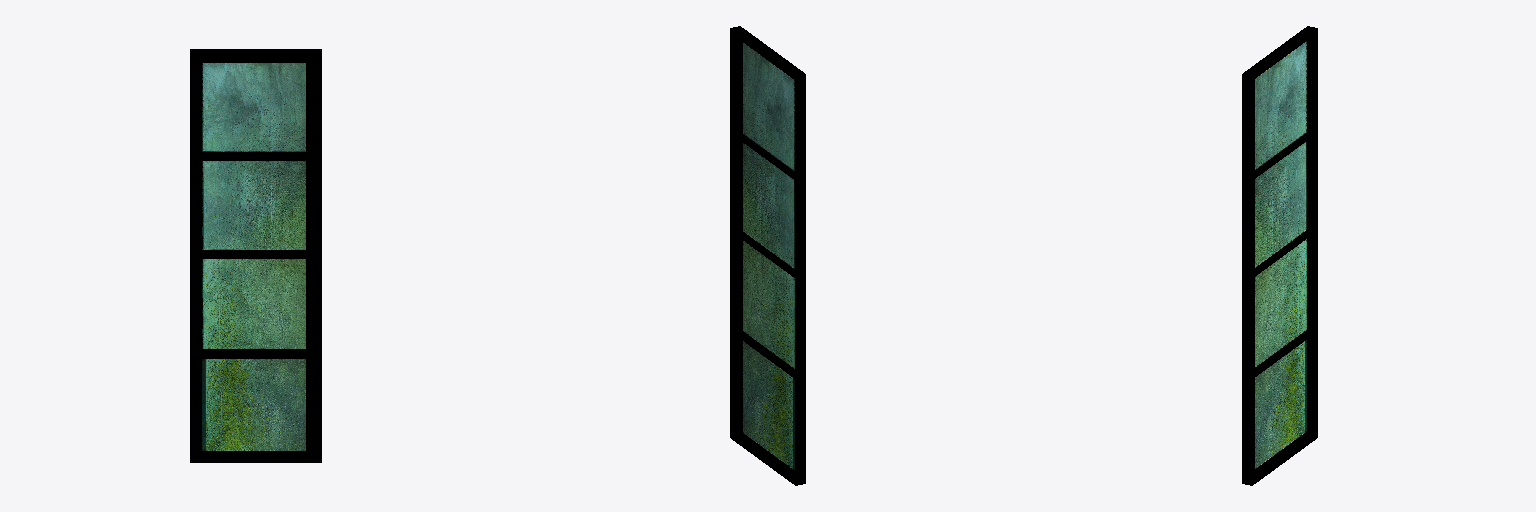
The picture shows the model from 3 angles: view 1: azimuth 30°, elevation 25°; view 2: azimuth 150°, elevation 25°; view 3: azimuth 270°, elevation 25°; orthographic projection.
Parts seen in each view (by area): view 1: pasted__ventana2 group1 Enter_a_title:glass2, Enter_a_title:win_still pasted__ventana2 group1; view 2: pasted__ventana2 group1 Enter_a_title:glass2, Enter_a_title:win_still pasted__ventana2 group1; view 3: pasted__ventana2 group1 Enter_a_title:glass2, Enter_a_title:win_still pasted__ventana2 group1.
Part boxes in pixels (bbox=[...]): pasted__ventana2 group1 Enter_a_title:glass2: bbox=[202, 63, 305, 450]; Enter_a_title:win_still pasted__ventana2 group1: bbox=[190, 49, 321, 462]; pasted__ventana2 group1 Enter_a_title:glass2: bbox=[743, 43, 794, 470]; Enter_a_title:win_still pasted__ventana2 group1: bbox=[730, 26, 805, 485]; pasted__ventana2 group1 Enter_a_title:glass2: bbox=[1255, 41, 1306, 468]; Enter_a_title:win_still pasted__ventana2 group1: bbox=[1242, 26, 1317, 485].
Bounding box in the file's own units: 0.4095 × 1.55 × 0.2593.
2 materials, 1 textured.